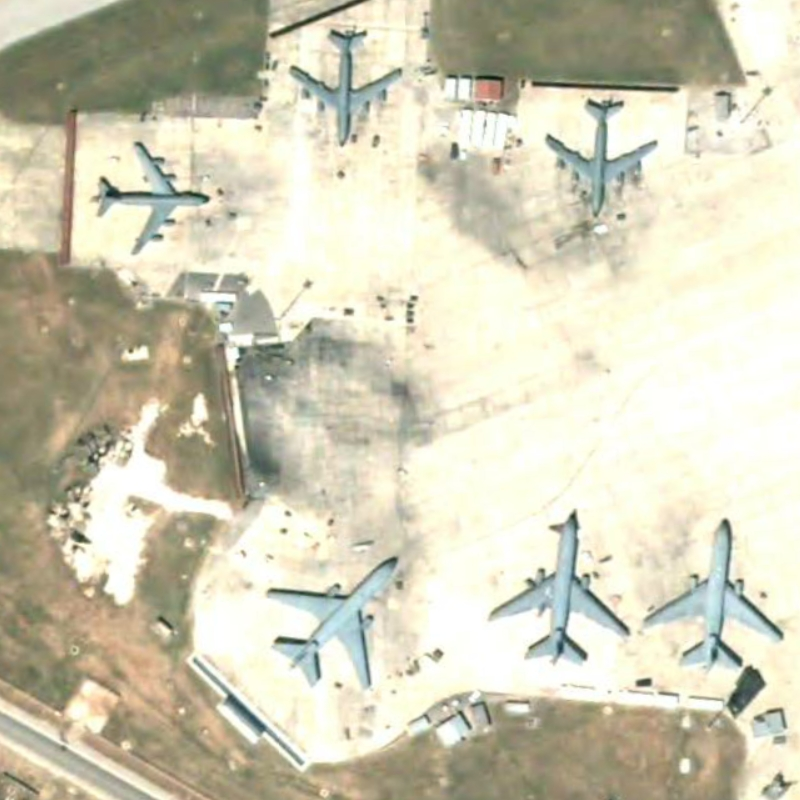A14: (538, 89, 664, 227), (279, 22, 410, 151), (89, 134, 215, 259)
A18: (482, 500, 637, 672), (639, 511, 788, 675), (255, 550, 401, 699)
